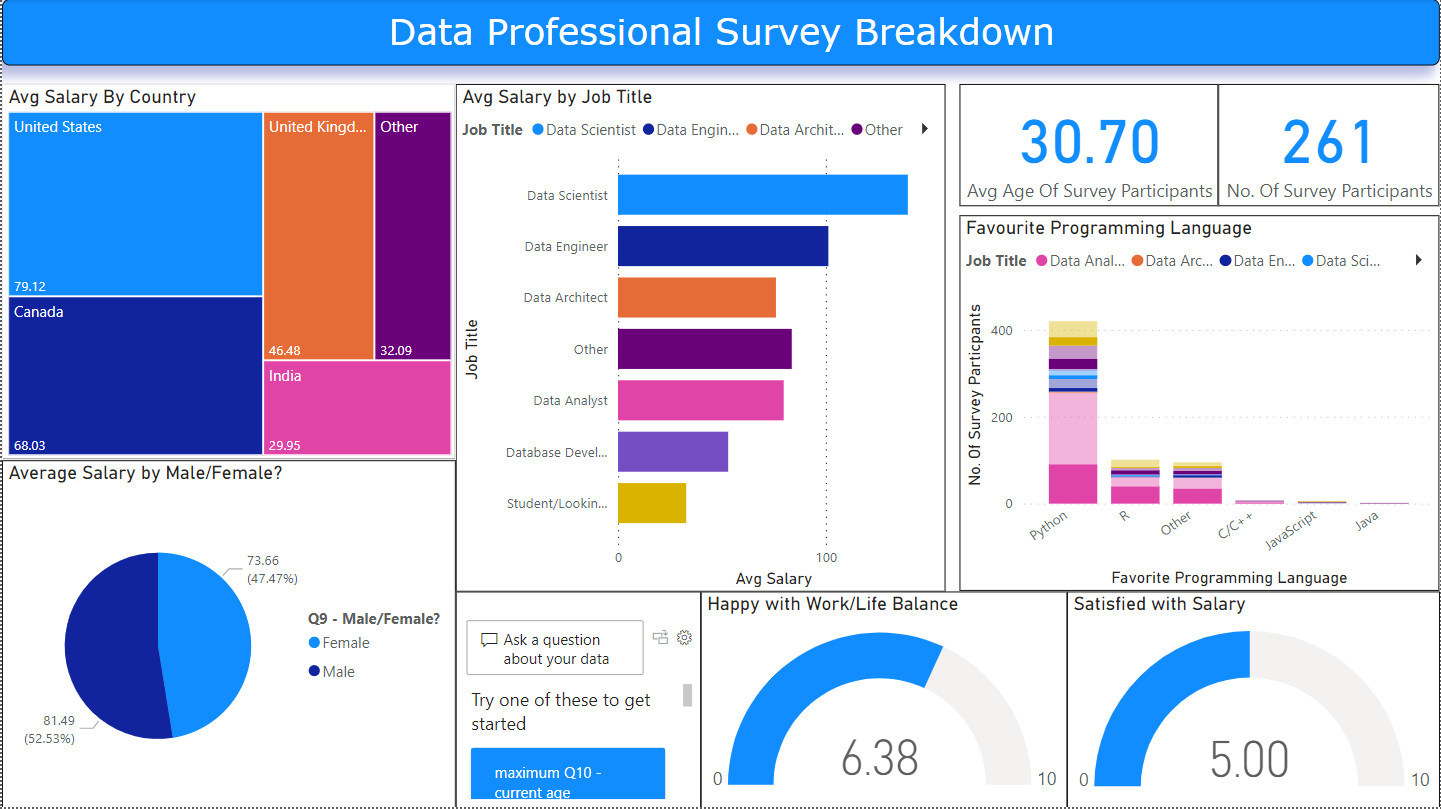

The dashboard page shown, as its layout file describes it:
{"tool":"powerbi","page":{"name":"Page 1","canvas":[1280,720],"ordinal":0},"visuals":[{"type":"textbox","box":[0,0,1279.7,59.4],"z":0},{"type":"card","fields":{"Values":["Count(Data Professional Survey.Unique ID)"]},"box":[1082.6,75.4,197.1,108.7],"z":1000},{"type":"card","fields":{"Values":["Avg(Data Professional Survey.Q10 - Current Age)"]},"box":[852.2,75.4,230.4,108.7],"z":2000},{"type":"barChart","title":"Avg Salary by Job Title ","fields":{"Category":["Data Professional Survey.Q1 - Which Title Best Fits your Current Role?"],"Y":["Avg(Data Professional Survey.Avg Salary)"],"Series":["Data Professional Survey.Q1 - Which Title Best Fits your Current Role?"]},"box":[404.3,75.4,436.2,452.2],"z":3000},{"type":"columnChart","title":"Favourite Programming Language","fields":{"Y":["Count(Data Professional Survey.Unique ID)"],"Category":["Data Professional Survey.Q5 - Favorite Programming Language"],"Series":["Data Professional Survey.Q1 - Which Title Best Fits your Current Role?"]},"box":[852.2,192.8,427.5,334.8],"z":4000},{"type":"treemap","title":"Avg Salary By Country ","fields":{"Group":["Data Professional Survey.Q11 - Which Country do you live in?"],"Values":["Avg(Data Professional Survey.Avg Salary)"]},"box":[0,75.4,404.3,334.8],"z":5000},{"type":"gauge","title":"Happy with Work/Life Balance","fields":{"Y":["Avg(Data Professional Survey.Q6 - How Happy are you in your Current Position with the following? (Work/Life Balance))"],"MinValue":["Min(Data Professional Survey.Q6 - How Happy are you in your Current Position with the following? (Work/Life Balance))"],"MaxValue":["Max(Data Professional Survey.Q6 - How Happy are you in your Current Position with the following? (Work/Life Balance))1"]},"box":[621.7,527.5,326.1,192.8],"z":6000},{"type":"gauge","title":"Satisfied with Salary","fields":{"Y":["Avg(Data Professional Survey.Q6 - How Happy are you in your Current Position with the following? (Salary))"],"MinValue":["Min(Data Professional Survey.Q6 - How Happy are you in your Current Position with the following? (Salary))"],"MaxValue":["Max(Data Professional Survey.Q6 - How Happy are you in your Current Position with the following? (Salary))"]},"box":[947.8,527.5,331.9,192.8],"z":7000},{"type":"pieChart","title":"Average Salary by Male/Female?","fields":{"Y":["Avg(Data Professional Survey.Avg Salary)"],"Category":["Data Professional Survey.Q9 - Male/Female?"]},"box":[0,410.1,404.3,310.1],"z":8000},{"type":"qnaVisual","box":[404.3,527.5,217.4,192.8],"z":9000}]}

Visuals, with their boxes in screenshot pixels (x1, y1, x2, y2), scaled from the page's 1280x720 canvas onto the 1441x809 screenshot:
textbox: locate(0, 0, 1440, 67)
card - Count(Data Professional Survey.Unique ID): locate(1219, 85, 1440, 207)
card - Avg(Data Professional Survey.Q10 - Current Age): locate(959, 85, 1219, 207)
"Avg Salary by Job Title " barChart: locate(455, 85, 946, 593)
"Favourite Programming Language" columnChart: locate(959, 217, 1440, 593)
"Avg Salary By Country " treemap: locate(0, 85, 455, 461)
"Happy with Work/Life Balance" gauge: locate(700, 593, 1067, 808)
"Satisfied with Salary" gauge: locate(1067, 593, 1440, 808)
"Average Salary by Male/Female?" pieChart: locate(0, 461, 455, 808)
qnaVisual: locate(455, 593, 700, 808)
